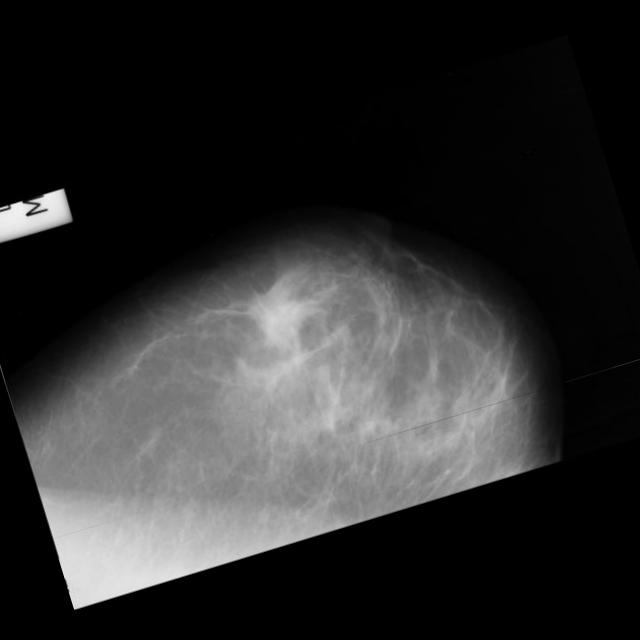ARCH: (211, 248, 342, 378)
